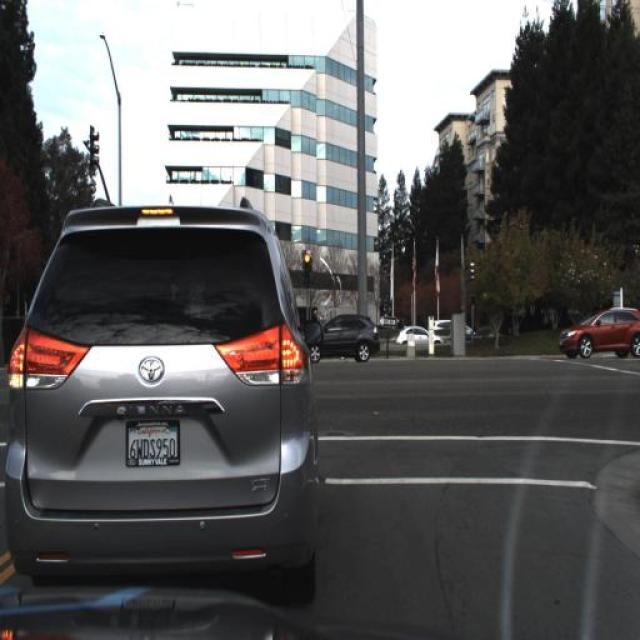car: (0, 195, 330, 610), (551, 297, 639, 368), (305, 310, 381, 370), (393, 322, 442, 352)
trafficLight-RedLeft: (303, 251, 313, 277)
